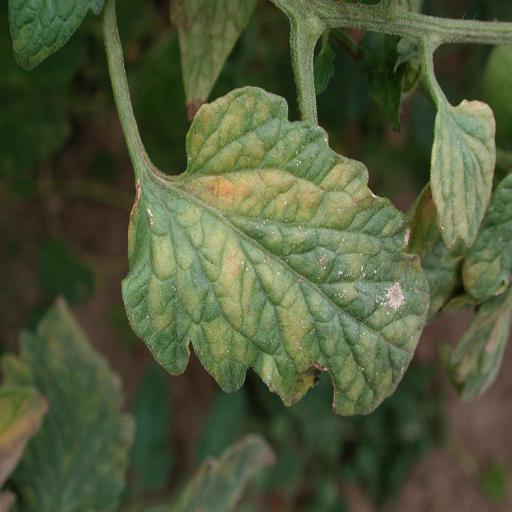Leaf Mold: (120, 86, 430, 416), (430, 98, 498, 250)
